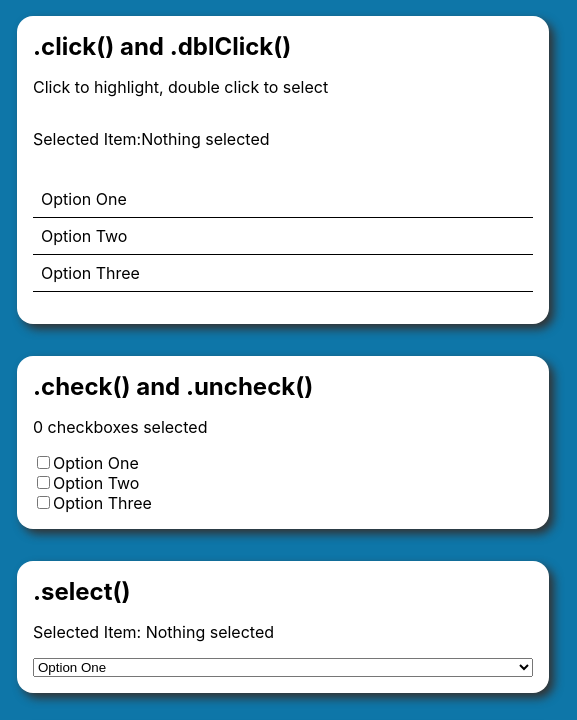
Test: Basic page interactions › Should display a correct count for the number of selected checkboxes
The image size is (577, 720).
Check: the text with test id "box-2-selected-count" reads "0", box [33,417,43,437]
Step 1. Check the checkbox labelled "Option One" → (44, 463), box [37,456,50,469]
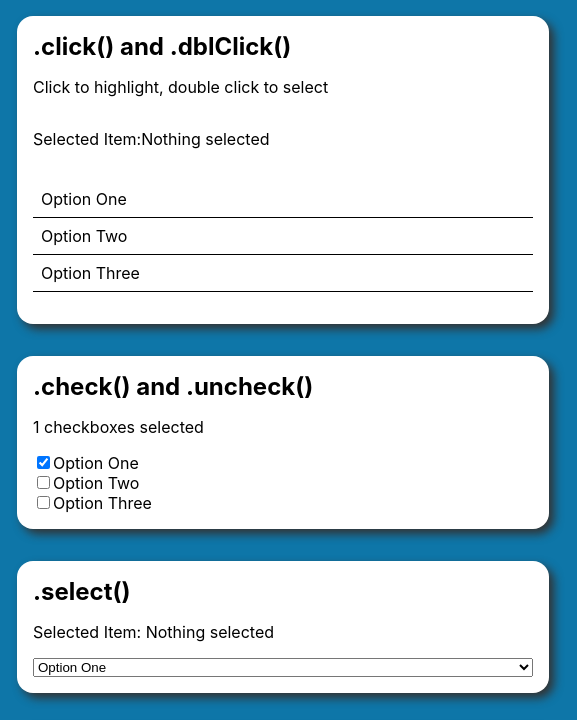
Check: the text with test id "box-2-selected-count" reads "1", box [33,417,40,437]
Step 2. Check the checkbox labelled "Option Two" → (44, 483), box [37,476,50,489]
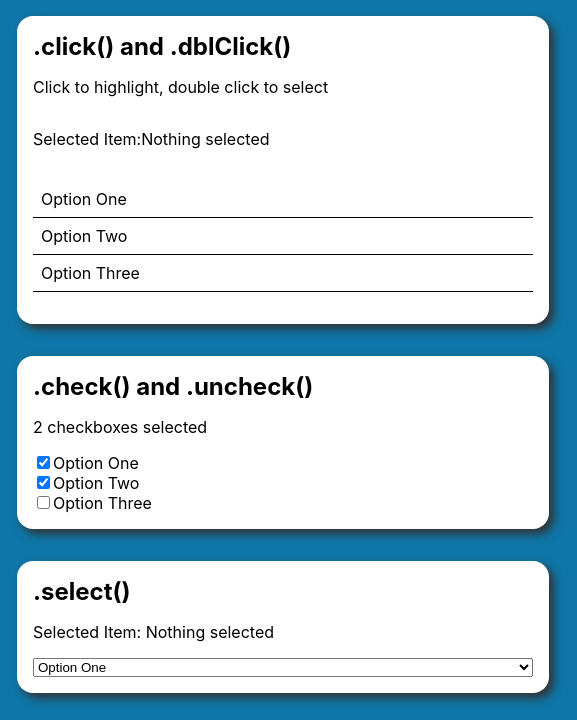
Check: the text with test id "box-2-selected-count" reads "2", box [33,417,43,437]
Step 3. Check the checkbox labelled "Option Three" → (44, 503), box [37,496,50,509]
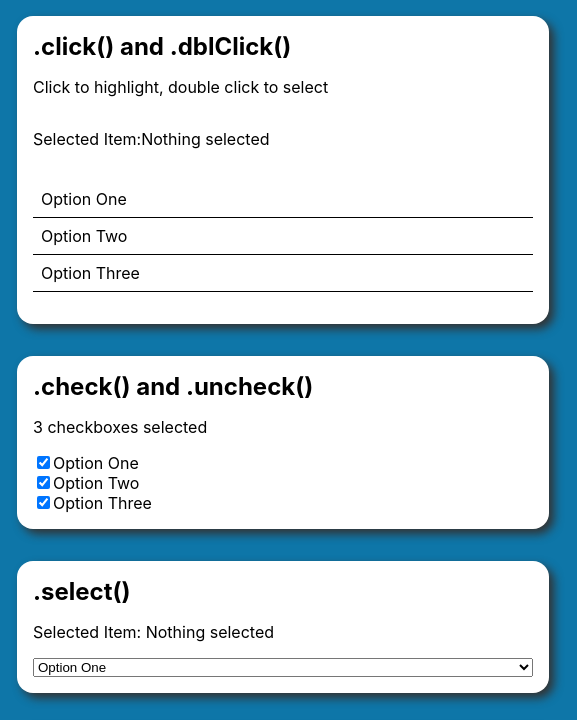
Check: the text with test id "box-2-selected-count" reads "3", box [33,417,43,437]
Step 4. Uncheck the checkbox labelled "Option One" → (44, 463), box [37,456,50,469]
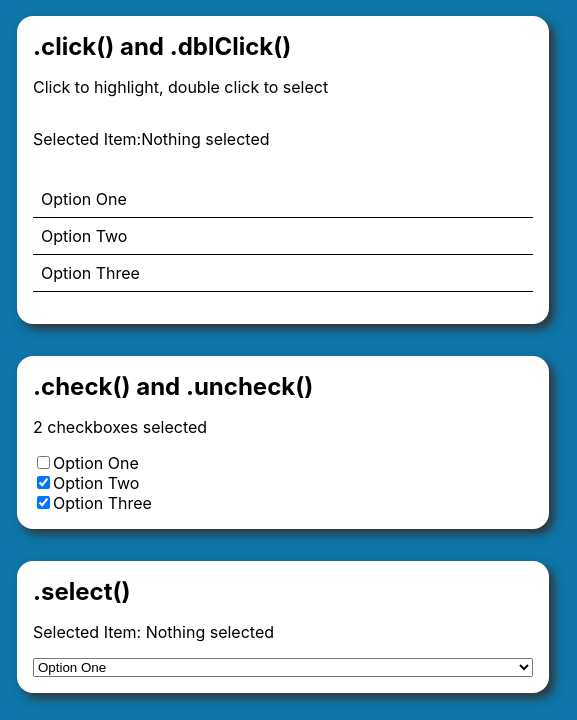
Check: the text with test id "box-2-selected-count" reads "2", box [33,417,43,437]
Step 5. Uncheck the checkbox labelled "Option Two" → (44, 483), box [37,476,50,489]
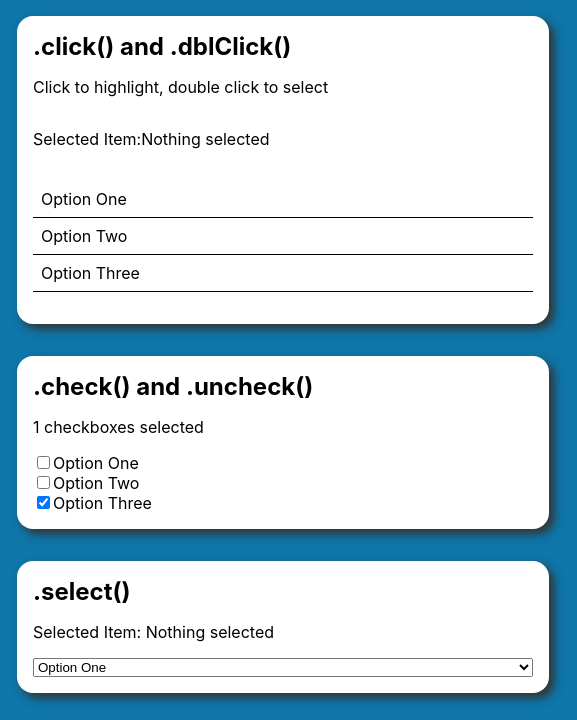
Check: the text with test id "box-2-selected-count" reads "1", box [33,417,40,437]
Step 6. Uncheck the checkbox labelled "Option Three" → (44, 503), box [37,496,50,509]
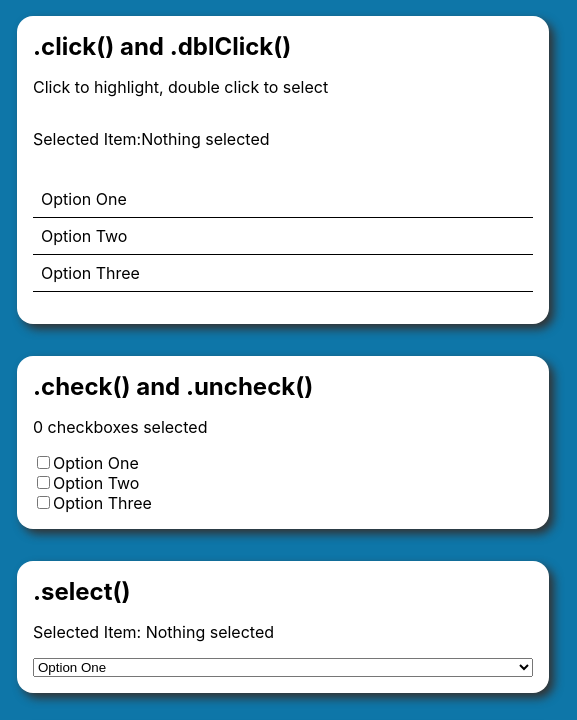
Check: the text with test id "box-2-selected-count" reads "0", box [33,417,43,437]
